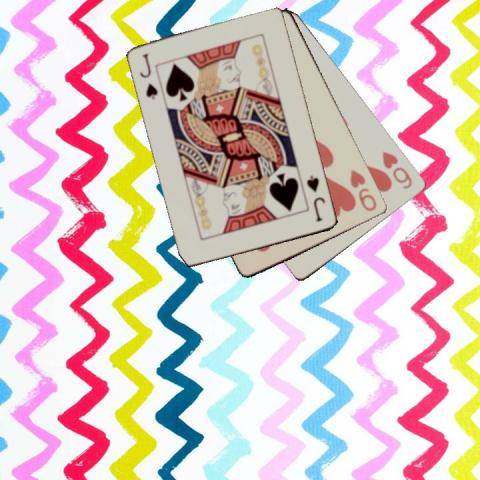6h: (379, 148, 414, 191)
9h: (347, 166, 379, 213)
Js: (304, 172, 327, 223), (137, 51, 159, 101)
